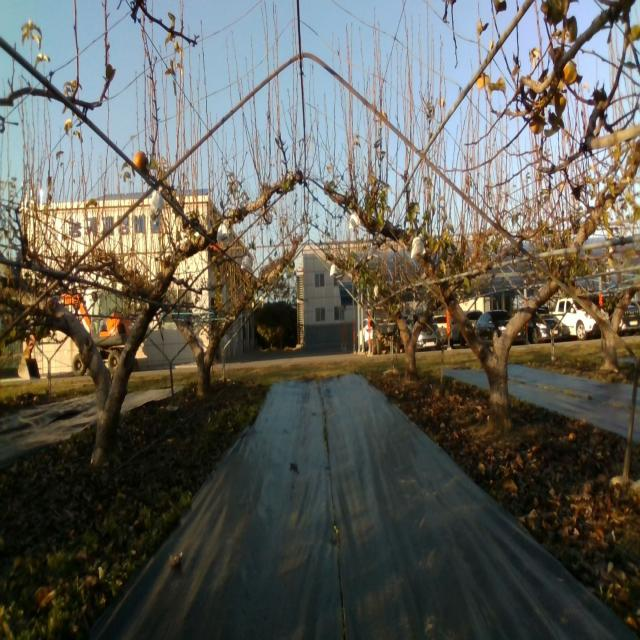pearbags: (150, 186, 164, 224), (411, 236, 426, 259), (217, 223, 230, 242)
